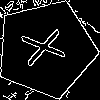X: (20, 24, 75, 68)
